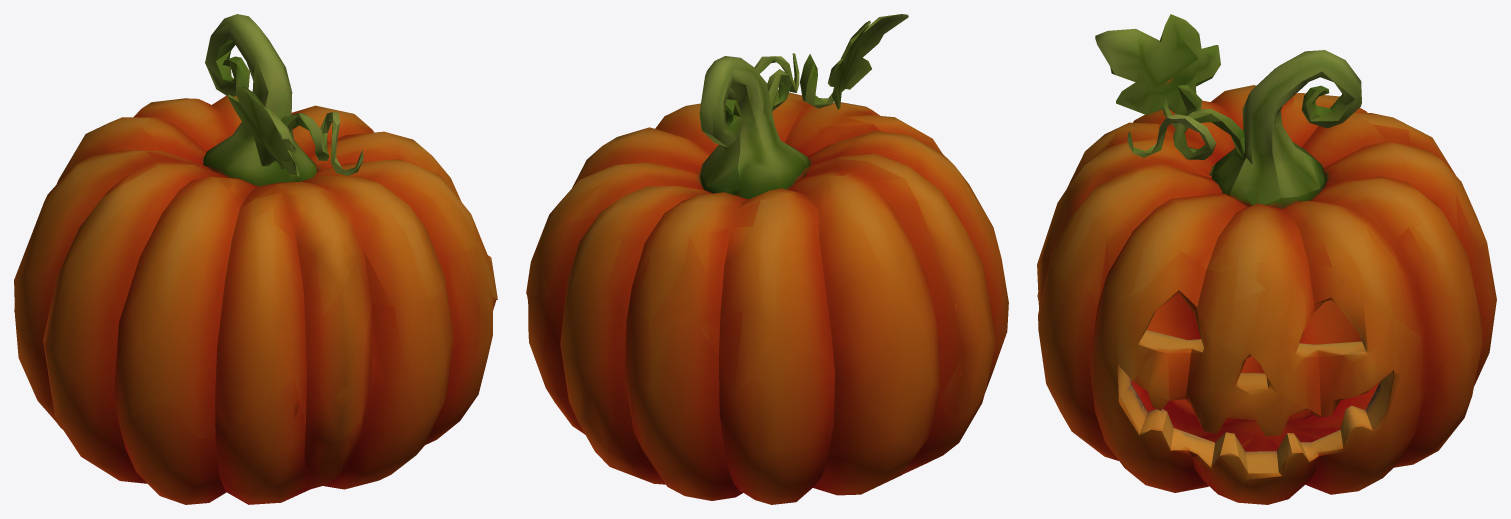
The model's file is H1_JackLanternBig_LOD2.fbx.
3 views of the same model, side by side, from view 1: azimuth 30°, elevation 25°; view 2: azimuth 150°, elevation 25°; view 3: azimuth 270°, elevation 25° (orthographic).
Visible parts, largest first — view 1: H1_JackLanternBig_LOD2; view 2: H1_JackLanternBig_LOD2; view 3: H1_JackLanternBig_LOD2.
Boxes of the visible parts, bbox=[...] form: H1_JackLanternBig_LOD2: bbox=[14, 14, 497, 504]; H1_JackLanternBig_LOD2: bbox=[526, 14, 1008, 504]; H1_JackLanternBig_LOD2: bbox=[1037, 14, 1496, 504].
Bounding box in the file's own units: 0.7878 × 0.7523 × 0.7597.
Materials: 1 (1 with a texture image).
